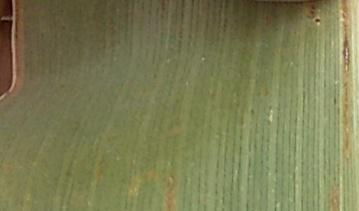tarspot: (313, 17, 321, 24), (309, 10, 315, 16), (311, 3, 316, 10)
